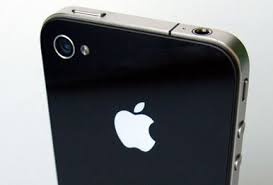iphone: (31, 6, 248, 185)
